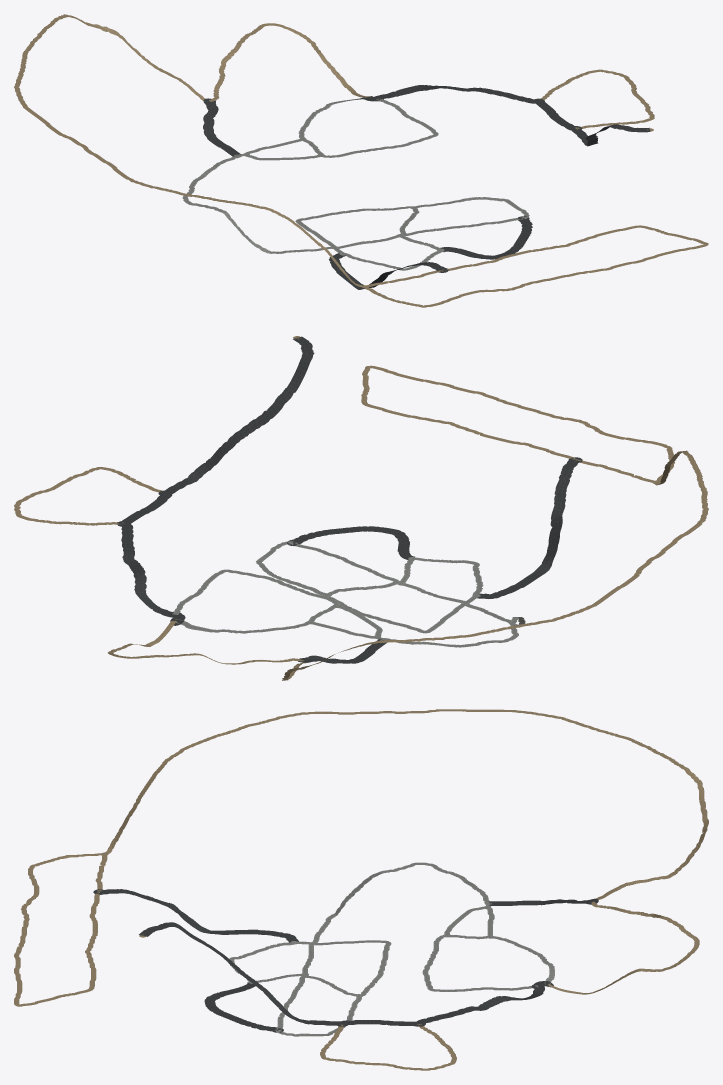
Rendered from RoadNetwork_Unity_All.obj.
The picture shows the model from 3 angles, top to bottom: view 1: azimuth 30°, elevation 25°; view 2: azimuth 150°, elevation 25°; view 3: azimuth 270°, elevation 25°; orthographic projection. The views are drawn at different scales.
Parts seen in each view (by area): view 1: RD-ROAD-003, RD-ROAD-001, RD-ROAD-028, RD-ROAD-023, RD-ROAD-018, RD-ROAD-014, RD-ROAD-005, RD-ROAD-008, RD-ROAD-019, RD-ROAD-022, RD-ROAD-017, RD-ROAD-004; view 2: RD-ROAD-003, RD-ROAD-004, RD-ROAD-001, RD-ROAD-008, RD-ROAD-018, RD-ROAD-014, RD-ROAD-005, RD-ROAD-019, RD-ROAD-028, RD-ROAD-023, RD-ROAD-017, RD-ROAD-022; view 3: RD-ROAD-003, RD-ROAD-001, RD-ROAD-008, RD-ROAD-004, RD-ROAD-028, RD-ROAD-023, RD-ROAD-014, RD-ROAD-018, RD-ROAD-005, RD-ROAD-019, RD-ROAD-017.
Part boxes in pixels (x1,y1,x2,y2): RD-ROAD-003: (14, 14, 365, 287); RD-ROAD-001: (364, 225, 708, 307); RD-ROAD-028: (209, 23, 369, 101); RD-ROAD-023: (182, 155, 336, 253); RD-ROAD-018: (373, 85, 538, 103); RD-ROAD-014: (540, 69, 654, 129); RD-ROAD-005: (440, 219, 532, 259); RD-ROAD-008: (329, 252, 445, 289); RD-ROAD-019: (320, 98, 438, 157); RD-ROAD-022: (203, 101, 240, 156); RD-ROAD-017: (295, 206, 412, 247); RD-ROAD-004: (571, 124, 650, 146); RD-ROAD-003: (282, 450, 708, 680); RD-ROAD-004: (162, 336, 314, 495); RD-ROAD-001: (361, 365, 674, 482); RD-ROAD-008: (475, 459, 579, 598); RD-ROAD-018: (120, 523, 179, 617); RD-ROAD-014: (14, 467, 161, 525); RD-ROAD-005: (293, 526, 414, 560); RD-ROAD-019: (172, 569, 339, 614); RD-ROAD-028: (107, 619, 303, 664); RD-ROAD-023: (382, 602, 525, 647); RD-ROAD-017: (329, 595, 466, 633); RD-ROAD-022: (303, 638, 386, 663); RD-ROAD-003: (103, 709, 708, 899); RD-ROAD-001: (14, 853, 104, 1006); RD-ROAD-008: (100, 889, 298, 942); RD-ROAD-004: (139, 922, 343, 1025); RD-ROAD-028: (545, 901, 699, 994); RD-ROAD-023: (310, 862, 489, 943); RD-ROAD-014: (320, 1024, 456, 1070); RD-ROAD-018: (415, 984, 544, 1024); RD-ROAD-005: (204, 982, 274, 1031); RD-ROAD-019: (422, 935, 538, 991); RD-ROAD-017: (313, 940, 391, 995).
Bounding box in the file's own units: 511 × 107 × 528.
3 materials, 3 textured.
